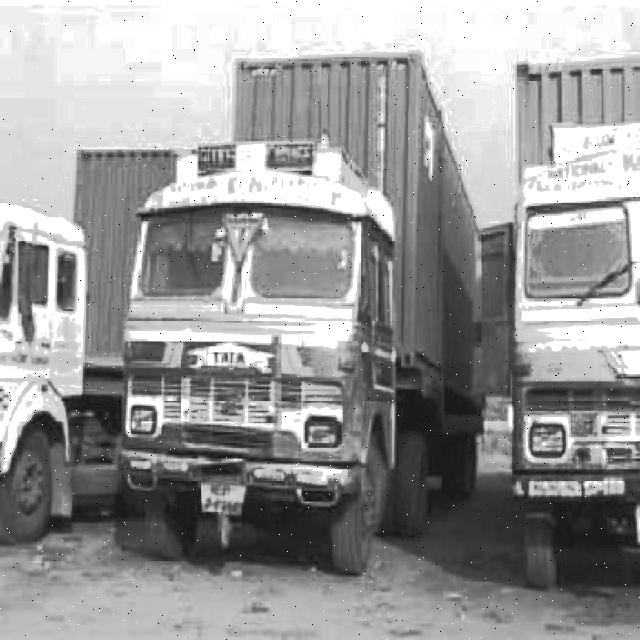HCV: (137, 77, 413, 605), (489, 62, 640, 639), (0, 179, 113, 546)
